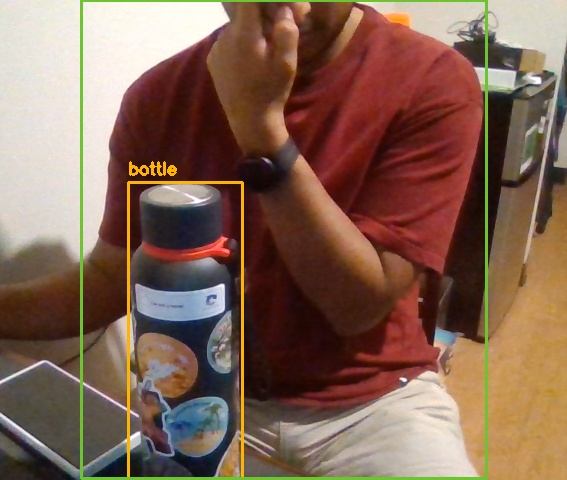bottle: (128, 182, 242, 479)
